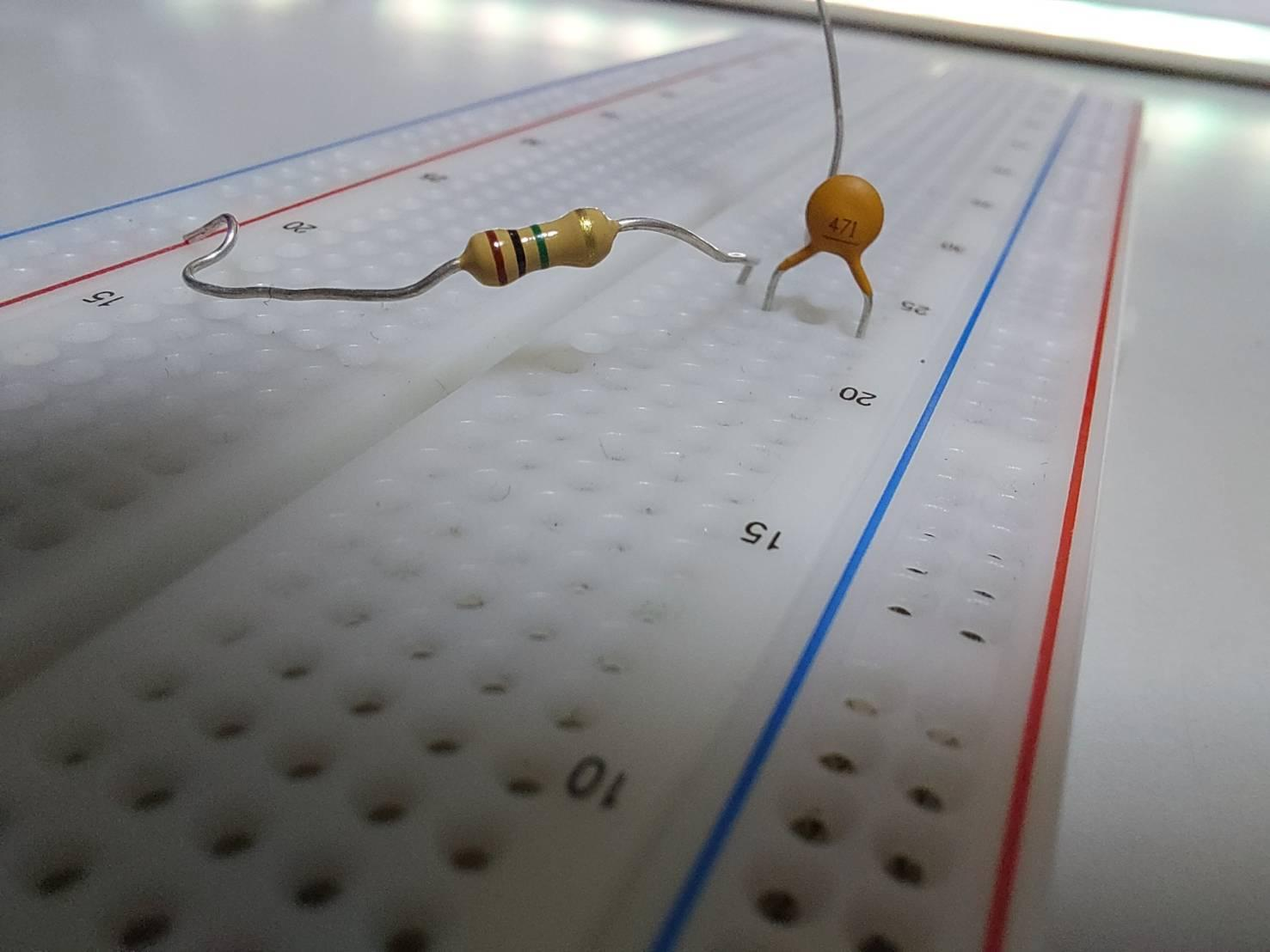resistor: (460, 204, 630, 277)
